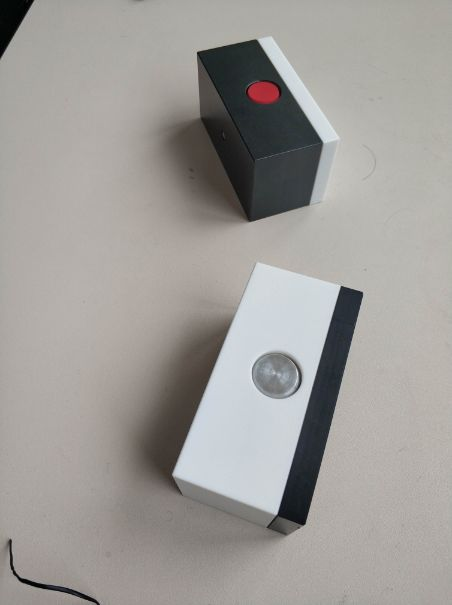black+white+silver: (171, 260, 365, 539)
white+black+red: (197, 34, 340, 224)
